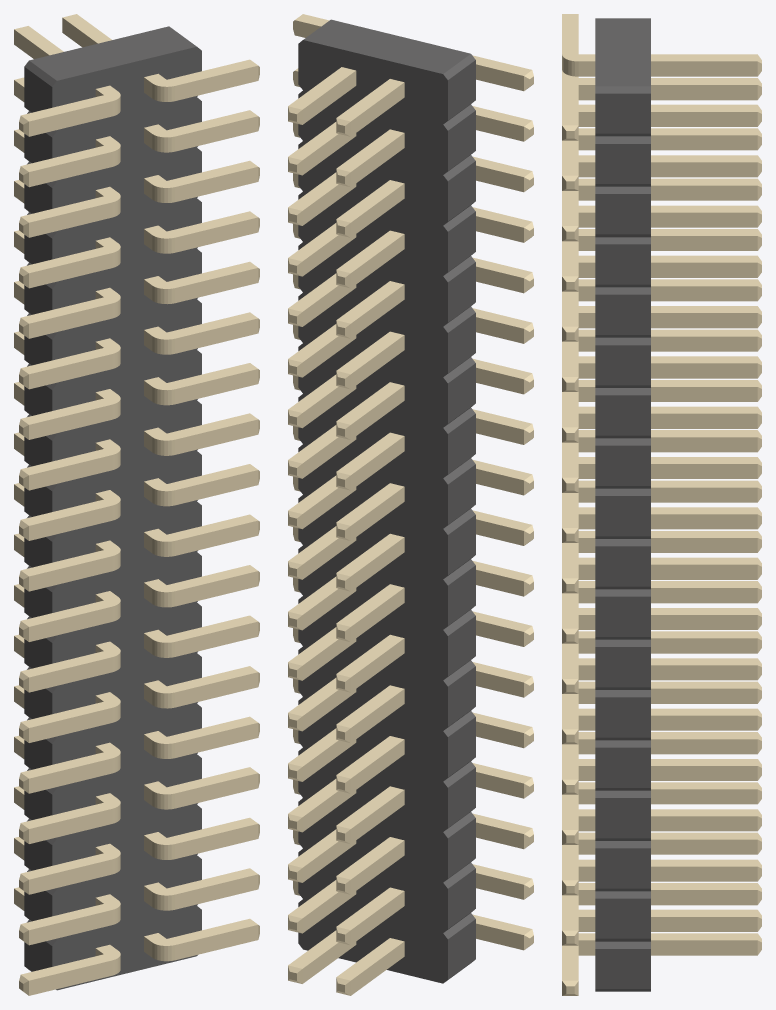
File: PinHeader_2x18_P1.00mm_Vertical_SMD.glb
The picture shows the model from 3 angles, left to right: view 1: azimuth 30°, elevation 25°; view 2: azimuth 150°, elevation 25°; view 3: azimuth 270°, elevation 25°; orthographic projection.
Visible parts, largest first — view 1: Shape_IndexedFaceSet.003, Shape_IndexedFaceSet.001, Shape_IndexedFaceSet.488, Shape_IndexedFaceSet.448, Shape_IndexedFaceSet.503, Shape_IndexedFaceSet.578, Shape_IndexedFaceSet.508, Shape_IndexedFaceSet.563, Shape_IndexedFaceSet.443, Shape_IndexedFaceSet.463, Shape_IndexedFaceSet.483, Shape_IndexedFaceSet.413 (+80 smaller); view 2: Shape_IndexedFaceSet.004, Shape_IndexedFaceSet.001, Shape_IndexedFaceSet.085, Shape_IndexedFaceSet.013, Shape_IndexedFaceSet.019, Shape_IndexedFaceSet.025, Shape_IndexedFaceSet.031, Shape_IndexedFaceSet.037, Shape_IndexedFaceSet.049, Shape_IndexedFaceSet.067, Shape_IndexedFaceSet.073, Shape_IndexedFaceSet.103 (+98 smaller); view 3: Shape_IndexedFaceSet.001, Shape_IndexedFaceSet.002, Shape_IndexedFaceSet.016, Shape_IndexedFaceSet.022, Shape_IndexedFaceSet.028, Shape_IndexedFaceSet.034, Shape_IndexedFaceSet.040, Shape_IndexedFaceSet.046, Shape_IndexedFaceSet.052, Shape_IndexedFaceSet.058, Shape_IndexedFaceSet.064, Shape_IndexedFaceSet.070 (+99 smaller).
Boxes of the visible parts, x1,y1,x2,y2 form: Shape_IndexedFaceSet.003: (52,47,201,990); Shape_IndexedFaceSet.001: (29,26,196,80); Shape_IndexedFaceSet.488: (29,960,112,995); Shape_IndexedFaceSet.448: (175,571,258,606); Shape_IndexedFaceSet.503: (175,419,258,454); Shape_IndexedFaceSet.578: (29,101,112,136); Shape_IndexedFaceSet.508: (29,455,112,490); Shape_IndexedFaceSet.563: (175,66,258,100); Shape_IndexedFaceSet.443: (29,607,112,641); Shape_IndexedFaceSet.463: (175,925,258,960); Shape_IndexedFaceSet.483: (29,859,112,894); Shape_IndexedFaceSet.413: (175,773,258,808); Shape_IndexedFaceSet.004: (298,40,447,983); Shape_IndexedFaceSet.001: (303,19,470,73); Shape_IndexedFaceSet.085: (448,717,475,777); Shape_IndexedFaceSet.013: (448,110,475,170); Shape_IndexedFaceSet.019: (448,161,475,221); Shape_IndexedFaceSet.025: (448,211,475,271); Shape_IndexedFaceSet.031: (448,262,475,322); Shape_IndexedFaceSet.037: (448,313,475,372); Shape_IndexedFaceSet.049: (448,414,475,473); Shape_IndexedFaceSet.067: (448,565,475,625); Shape_IndexedFaceSet.073: (448,616,475,676); Shape_IndexedFaceSet.103: (448,868,475,928); Shape_IndexedFaceSet.001: (595,18,650,86); Shape_IndexedFaceSet.002: (595,93,650,133); Shape_IndexedFaceSet.016: (595,194,650,234); Shape_IndexedFaceSet.022: (595,244,650,284); Shape_IndexedFaceSet.028: (595,294,650,334); Shape_IndexedFaceSet.034: (595,345,650,385); Shape_IndexedFaceSet.040: (595,395,650,435); Shape_IndexedFaceSet.046: (595,445,650,485); Shape_IndexedFaceSet.052: (595,496,650,536); Shape_IndexedFaceSet.058: (595,546,650,586); Shape_IndexedFaceSet.064: (595,596,650,636); Shape_IndexedFaceSet.070: (595,647,650,687).
Bounding box in the file's own units: 1.93 × 7.09 × 1.42.
